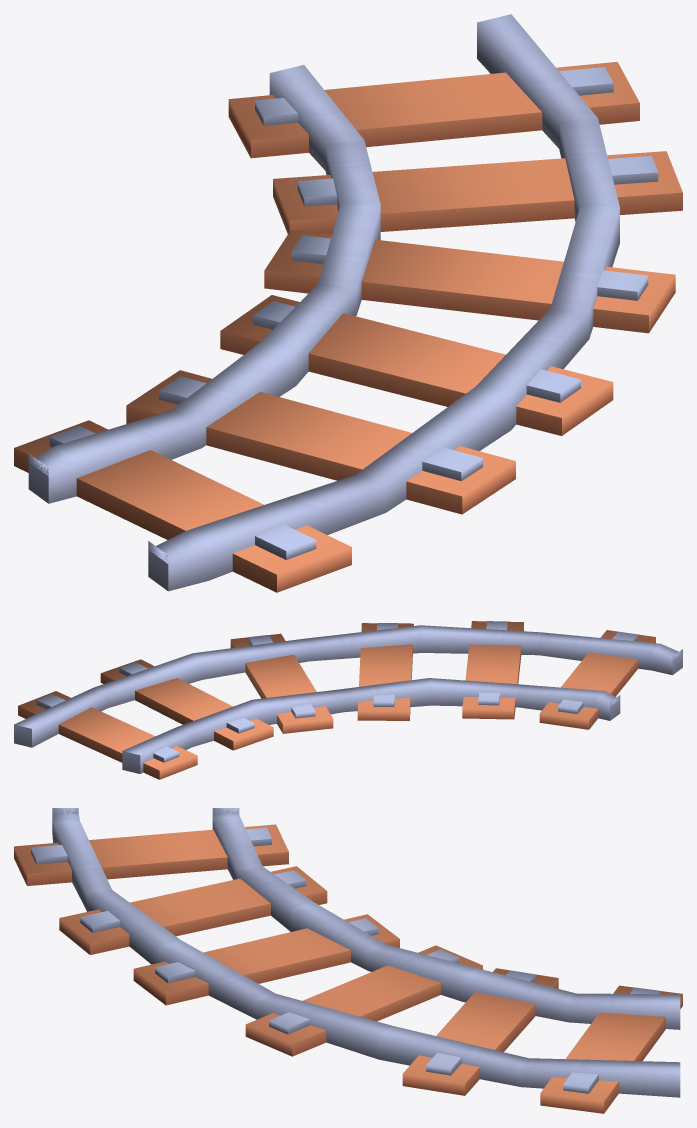
File: kenney-train-railroad-damaged-corner-small.glb
The picture shows the model from 3 angles, top to bottom: view 1: azimuth 30°, elevation 25°; view 2: azimuth 150°, elevation 25°; view 3: azimuth 270°, elevation 25°; orthographic projection. The views are drawn at different scales.
Parts seen in each view (by area): view 1: railroad-damaged-corner-small; view 2: railroad-damaged-corner-small; view 3: railroad-damaged-corner-small.
Boxes of the visible parts, x1,y1,x2,y2 form: railroad-damaged-corner-small: (14, 14, 682, 592); railroad-damaged-corner-small: (14, 621, 682, 779); railroad-damaged-corner-small: (14, 808, 682, 1113).
Size of the model in its own units: 2.49 by 0.0999 by 2.5.
Materials: 1 (1 with a texture image).
